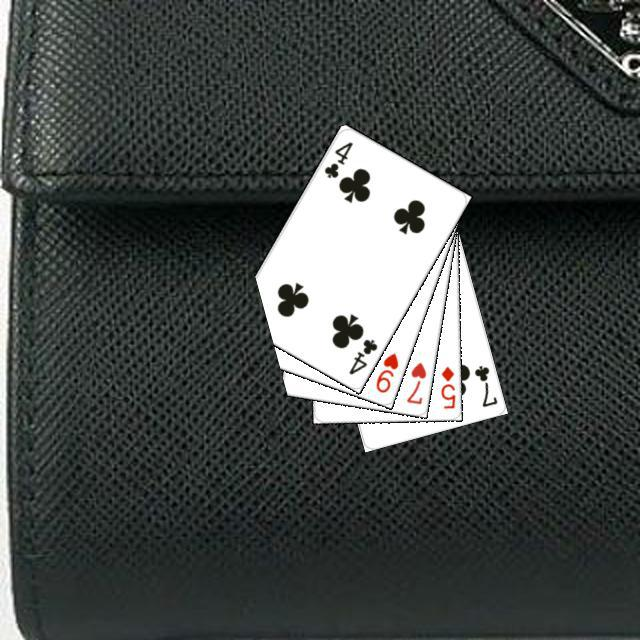4c: (319, 137, 355, 180), (344, 334, 379, 376)
5d: (436, 361, 457, 410)
7c: (469, 360, 499, 409)
7h: (401, 357, 428, 406)
9h: (371, 348, 400, 394)
